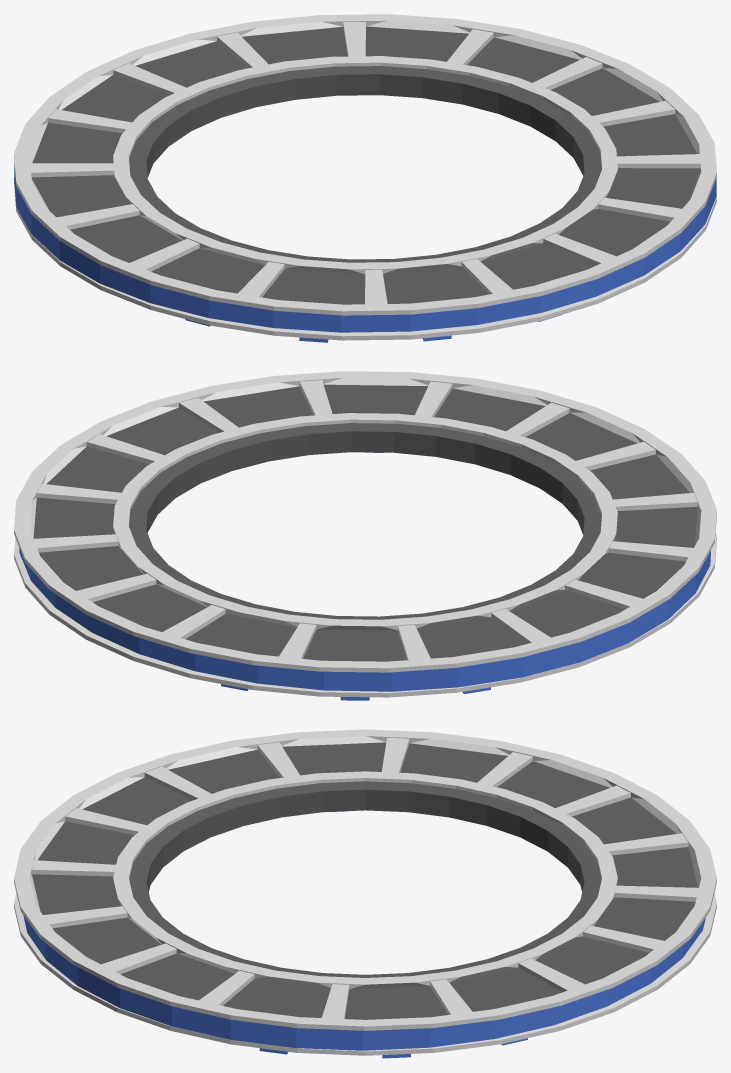
The model's file is circlething.fbx.
The picture shows the model from 3 angles, top to bottom: view 1: azimuth 30°, elevation 25°; view 2: azimuth 150°, elevation 25°; view 3: azimuth 270°, elevation 25°; orthographic projection.
Parts seen in each view (by area): view 1: Cylinder; view 2: Cylinder; view 3: Cylinder.
Boxes of the visible parts, left/top/right/bottom form: Cylinder: left=14, top=14, right=716, bottom=342; Cylinder: left=14, top=371, right=716, bottom=700; Cylinder: left=14, top=729, right=716, bottom=1058.
Size of the model in its own units: 357 by 25.99 by 357.
